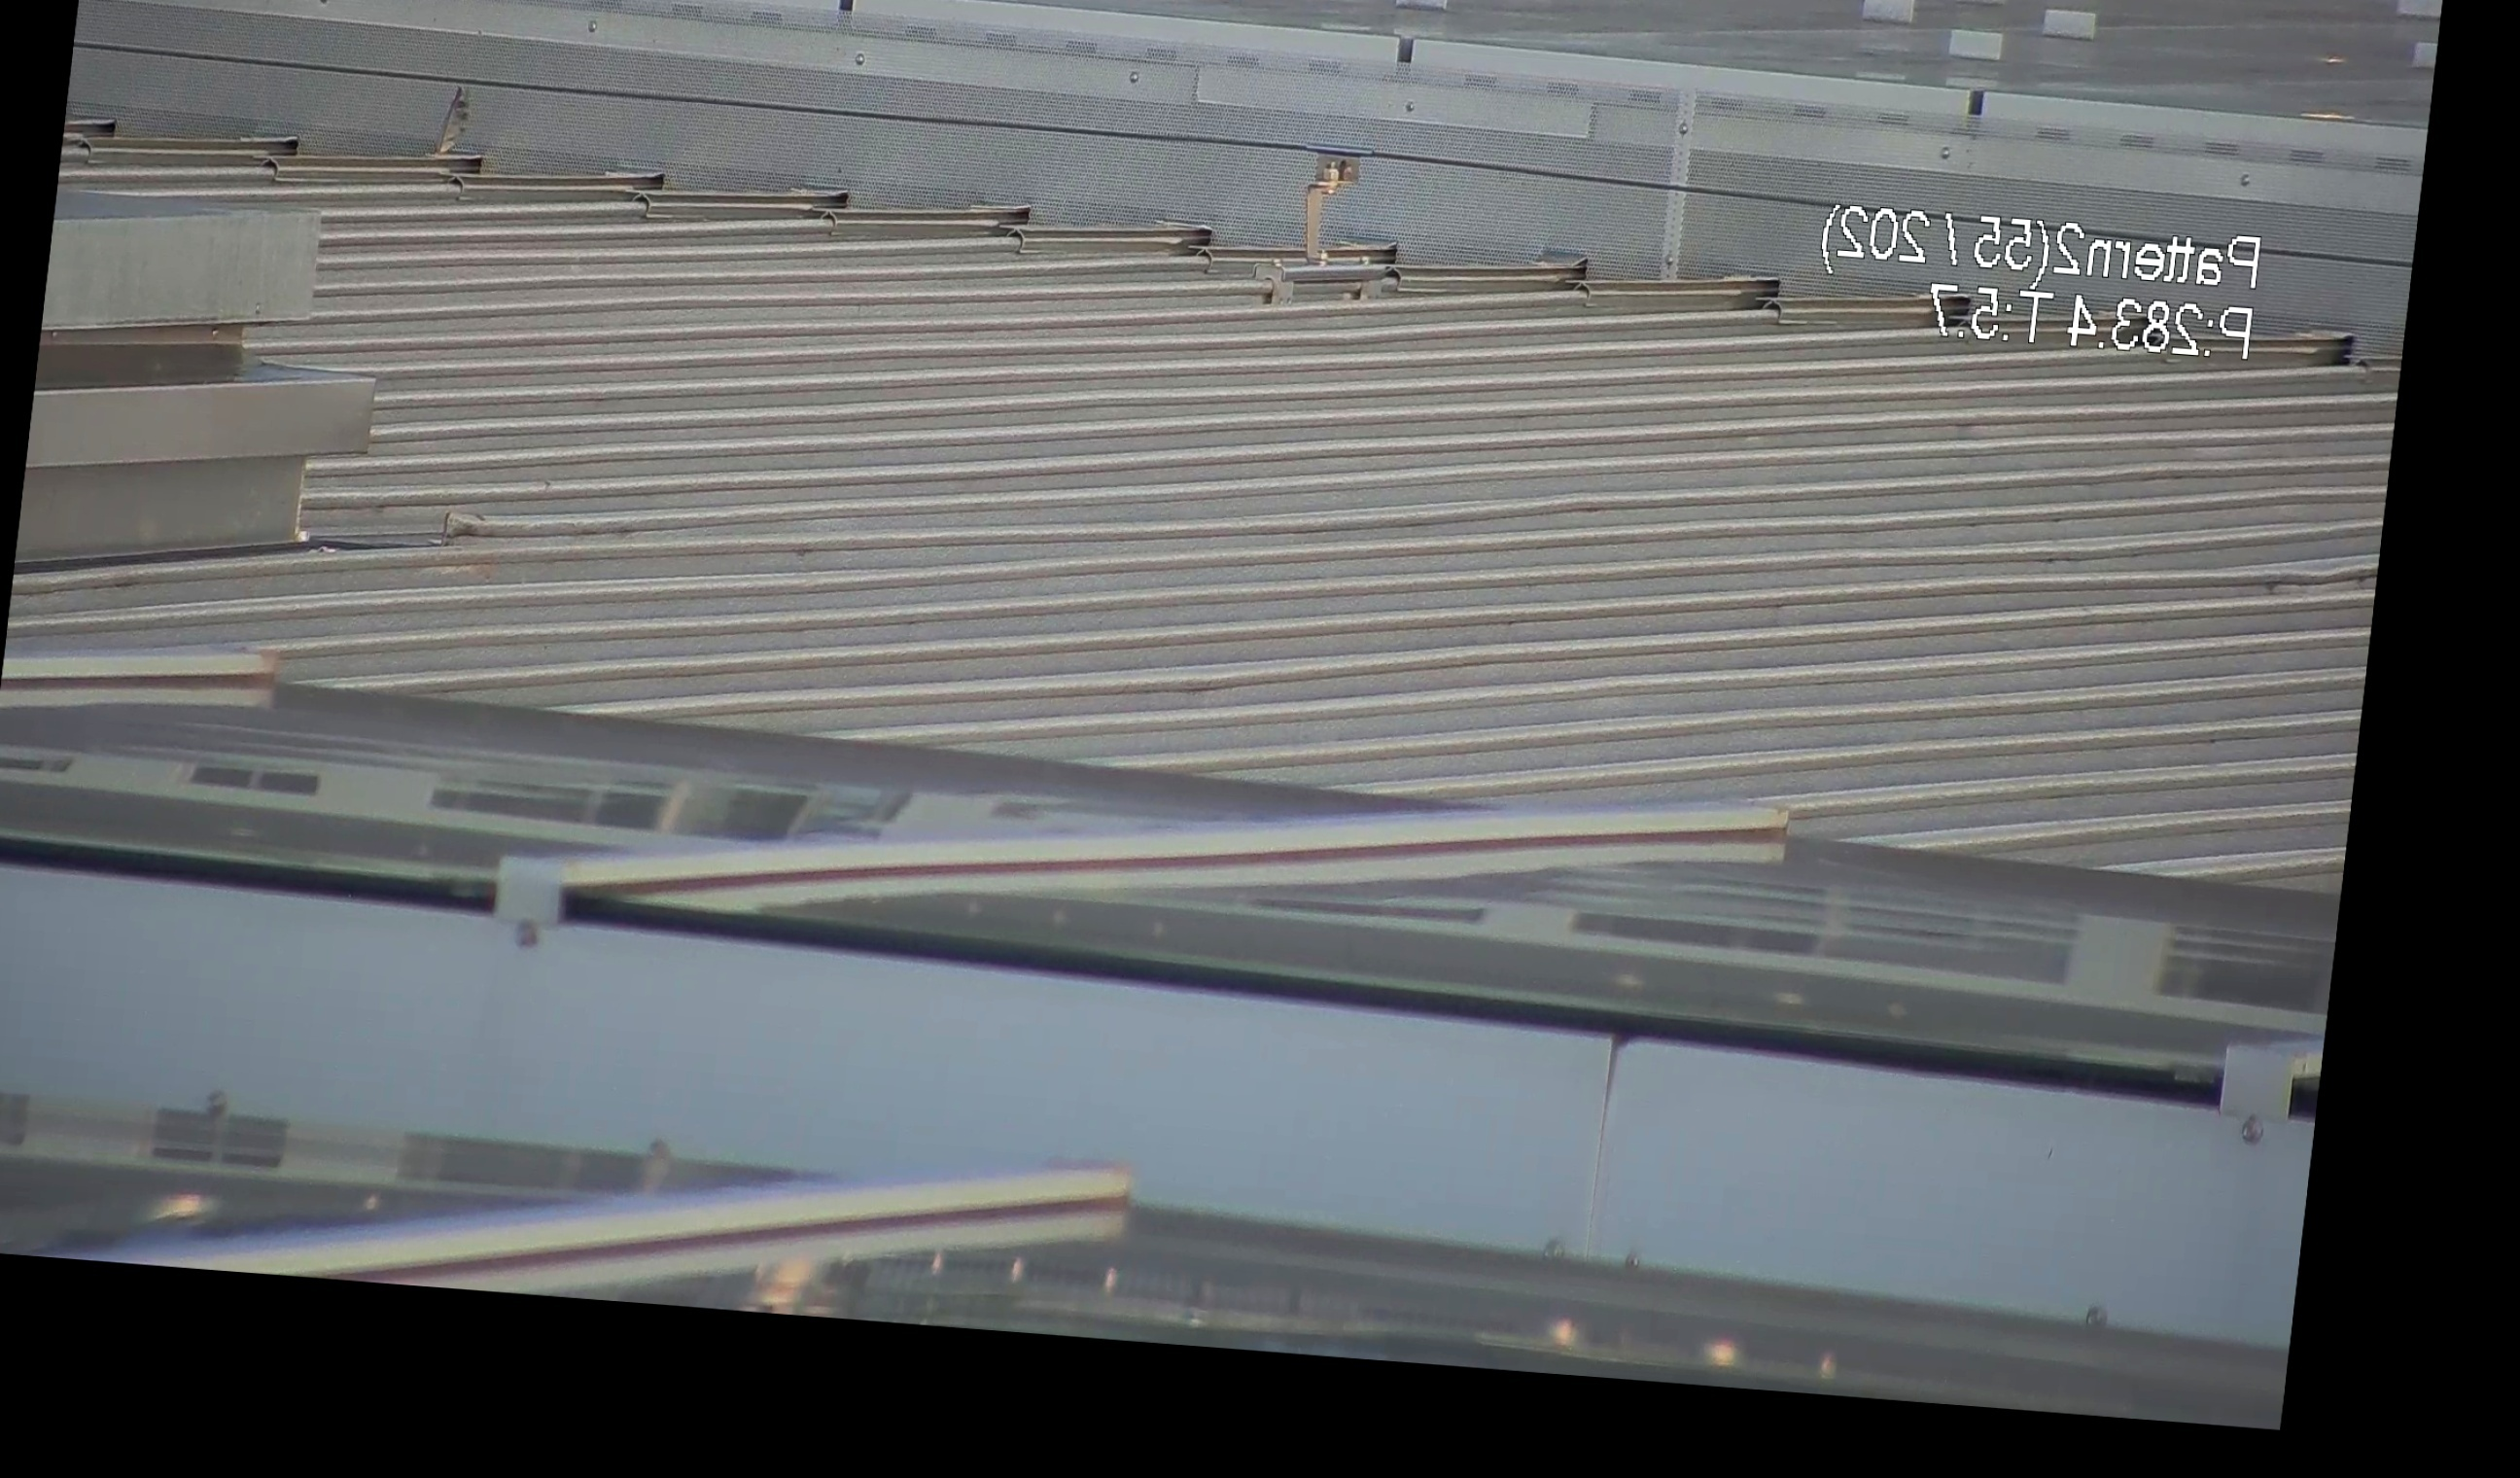Other: (417, 65, 480, 181)
